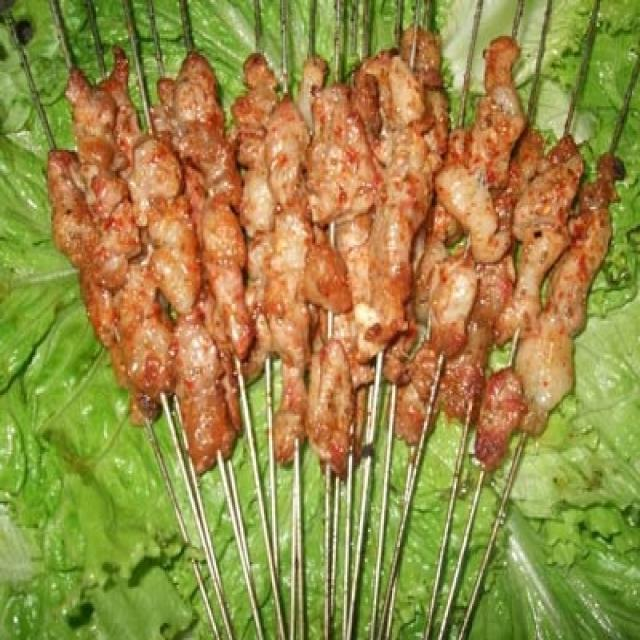烧串烤肉: (21, 23, 619, 630)
